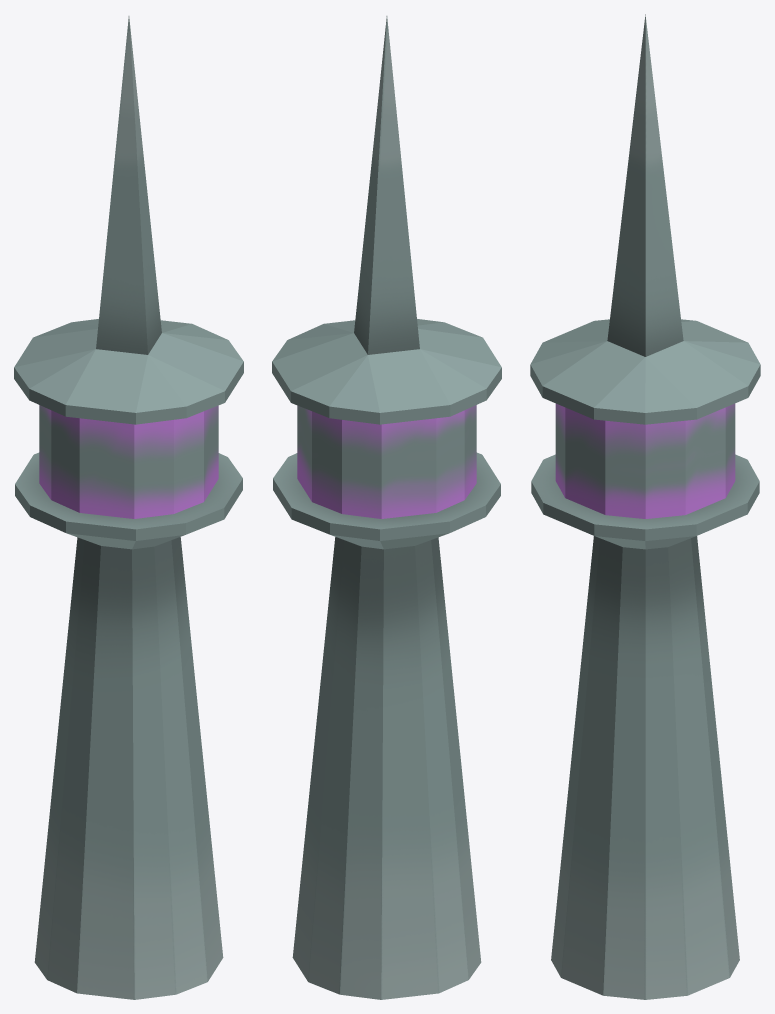
Rendered from GeneratorTowerObject.obj.
3 views of the same model, side by side, from view 1: azimuth 30°, elevation 25°; view 2: azimuth 150°, elevation 25°; view 3: azimuth 270°, elevation 25° (orthographic).
Parts seen in each view (by area): view 1: Cube; view 2: Cube; view 3: Cube.
Part boxes in pixels (box(x1,y1,x2,y2)): Cube: box(14, 16, 243, 999); Cube: box(272, 16, 501, 999); Cube: box(530, 14, 760, 999).
Size of the model in its own units: 0.893 by 4.05 by 0.893.
